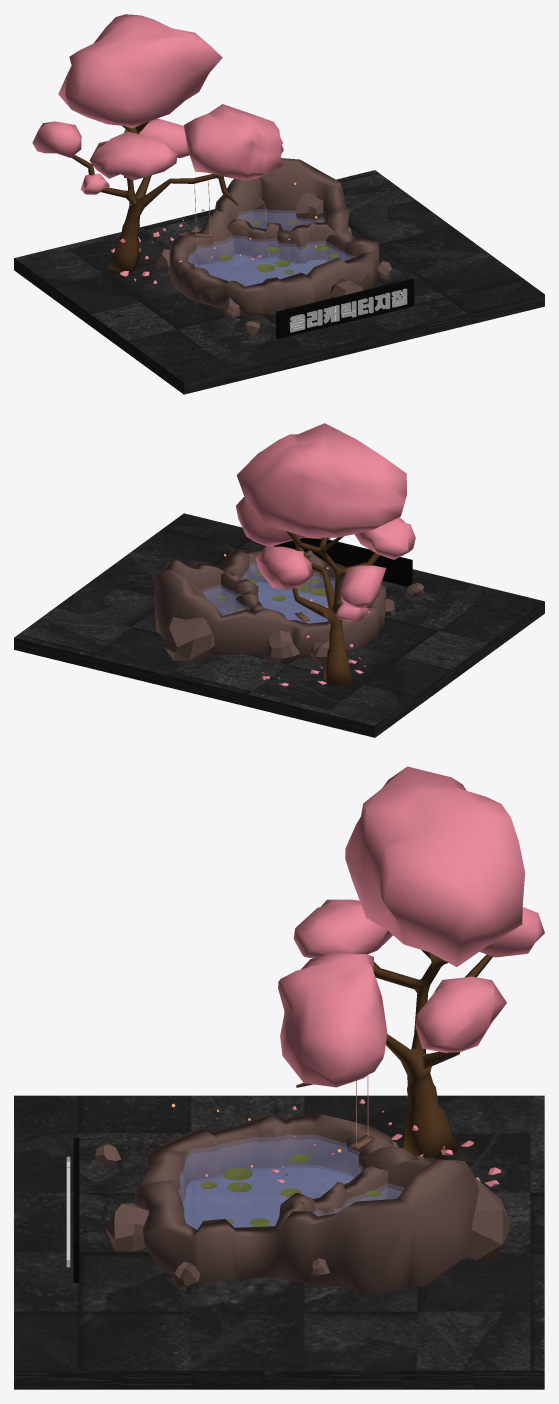
File: pod.glb
The picture shows the model from 3 angles, top to bottom: view 1: azimuth 30°, elevation 25°; view 2: azimuth 150°, elevation 25°; view 3: azimuth 270°, elevation 25°; orthographic projection. The views are drawn at different scales.
Visible parts, largest first — view 1: Cube, tree tops, base rocks, water 1, Cube.018, water 1.001, rocks 2, Text.004, water 2, water 2.001, Cylinder.003; view 2: Cube, tree tops, base rocks, rocks 2, Cube.018, water 1, water 1.001, water 2, water 2.001, Cylinder.003; view 3: Cube, tree tops, base rocks, water 1, water 1.001, rocks 2, Cylinder.003, Cube.018.
Boxes of the visible parts, <box> form: Cube: <box>14,170,544,394</box>; tree tops: <box>32,14,283,273</box>; base rocks: <box>169,158,379,315</box>; water 1: <box>188,235,355,286</box>; Cube.018: <box>276,278,414,339</box>; water 1.001: <box>188,238,349,286</box>; rocks 2: <box>155,188,392,336</box>; Text.004: <box>289,288,407,332</box>; water 2: <box>237,208,324,230</box>; water 2.001: <box>239,211,323,229</box>; Cylinder.003: <box>219,221,338,274</box>; Cube: <box>14,513,544,737</box>; tree tops: <box>236,423,415,685</box>; base rocks: <box>154,548,385,658</box>; rocks 2: <box>164,550,424,663</box>; Cube.018: <box>274,537,412,586</box>; water 1: <box>240,562,342,623</box>; water 1.001: <box>244,565,342,623</box>; water 2: <box>201,585,249,656</box>; water 2.001: <box>203,588,243,615</box>; Cylinder.003: <box>218,571,325,613</box>; Cube: <box>14,1095,544,1389</box>; tree tops: <box>278,766,544,1159</box>; base rocks: <box>135,1114,479,1292</box>; water 1: <box>178,1135,363,1229</box>; water 1.001: <box>180,1139,360,1229</box>; rocks 2: <box>95,1140,510,1290</box>; Cylinder.003: <box>199,1154,380,1226</box>; Cube.018: <box>73,1138,79,1282</box>.
Size of the model in its own units: 15.2 by 10.09 by 12.4.
11 materials, 1 textured.
